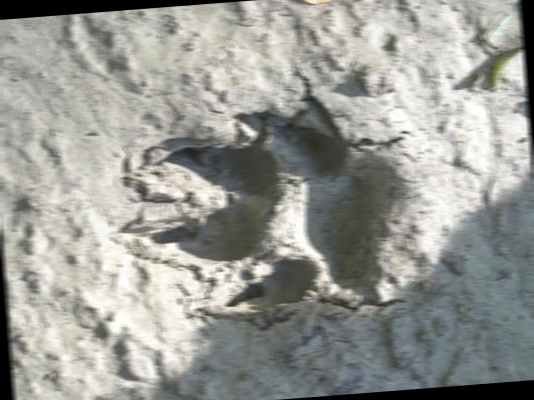coyote: (99, 70, 454, 353)
